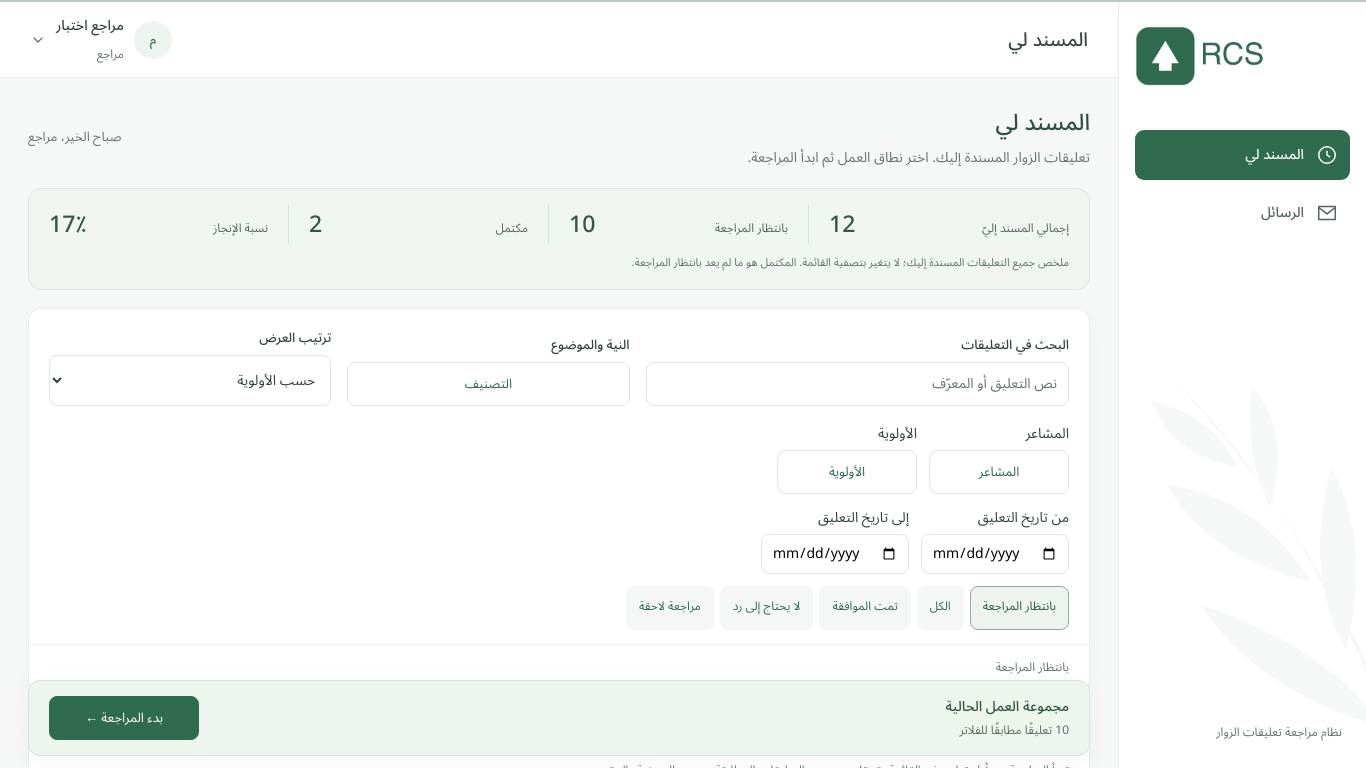
it: Reviewer Assigned work › combines real Intent/Topic/search and retains context on entry and return
This screenshot has width=1366, height=768.
Expected: the heading "قائمة المراجعة (10)" is shown, [944,727,1069,761]
Click the button "التصنيف" at (488, 384), box [347,362,630,406]
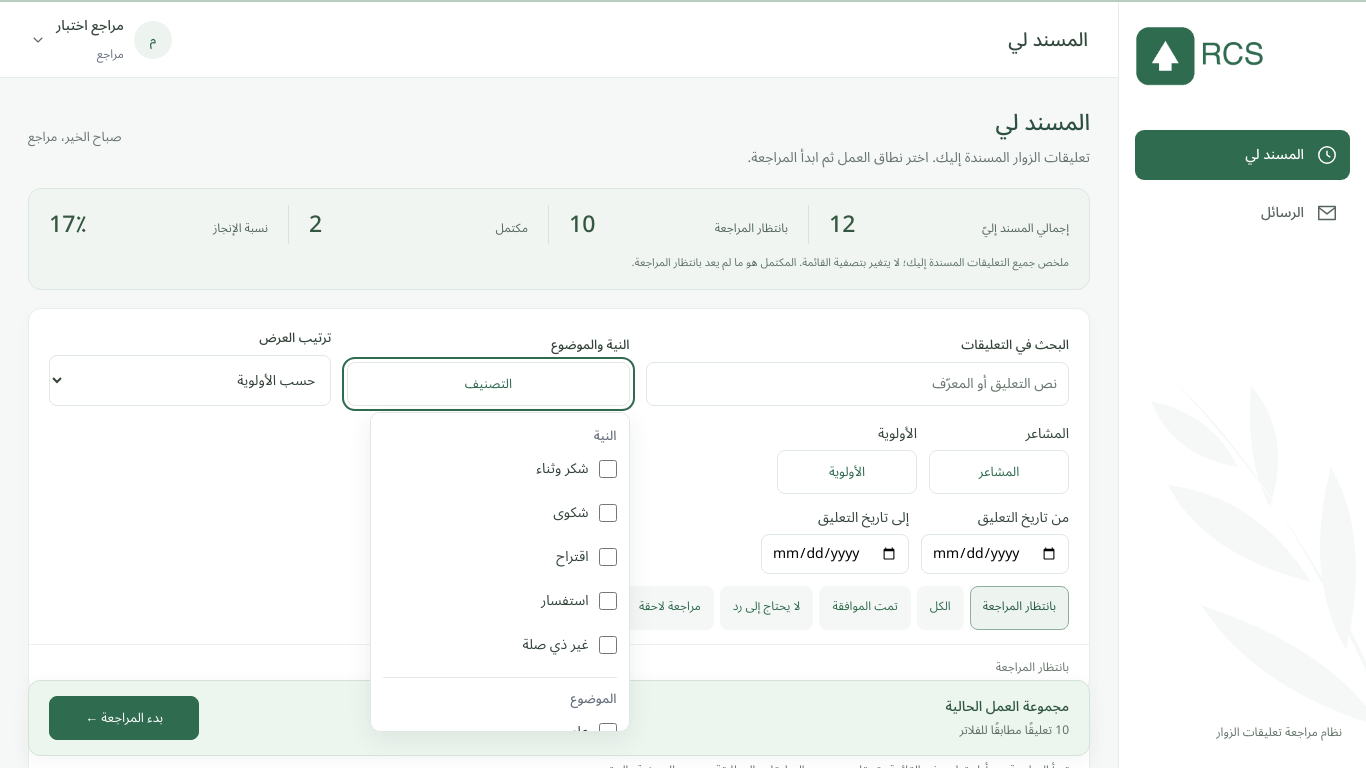
Click the checkbox labelled "اقتراح" at (608, 557), box [599,548,617,566]
(page scrolled)
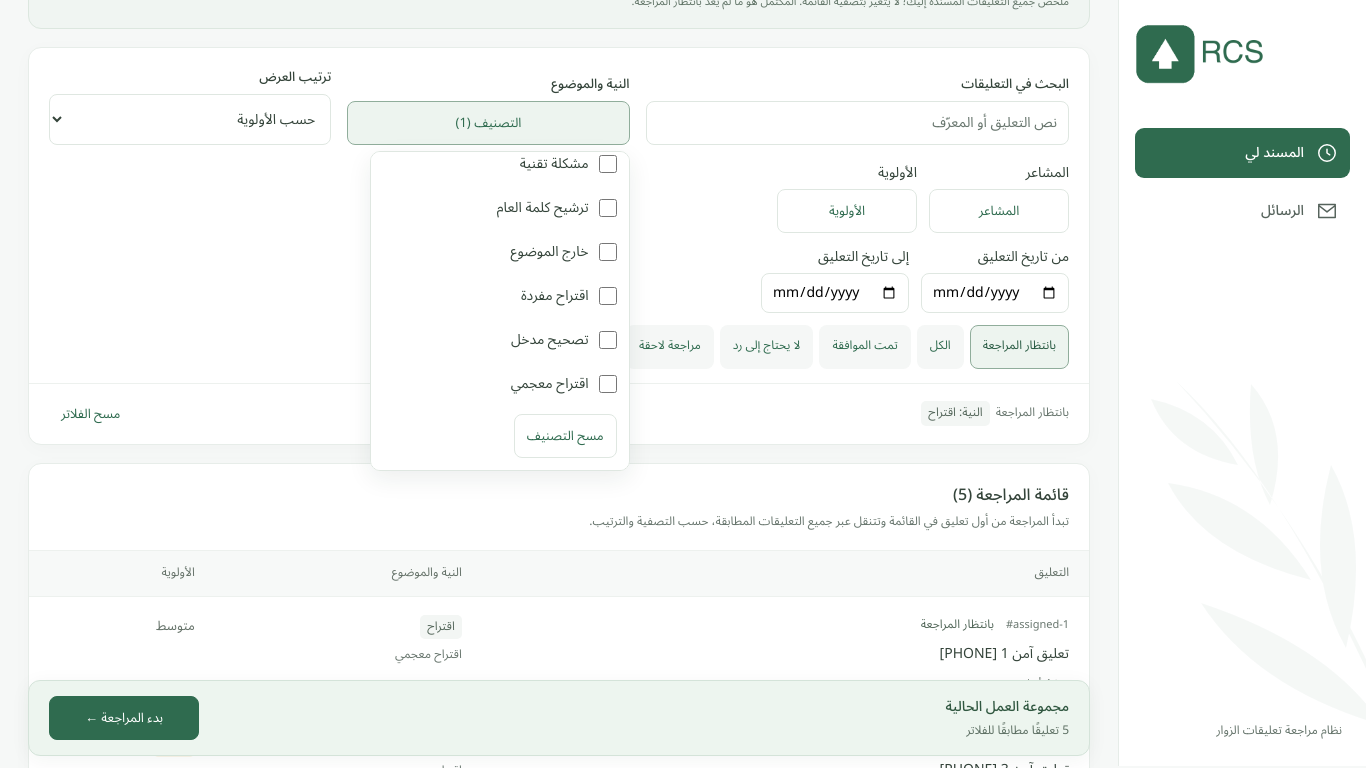
Click the checkbox labelled "اقتراح معجمي" at (608, 384), box [599,375,617,393]
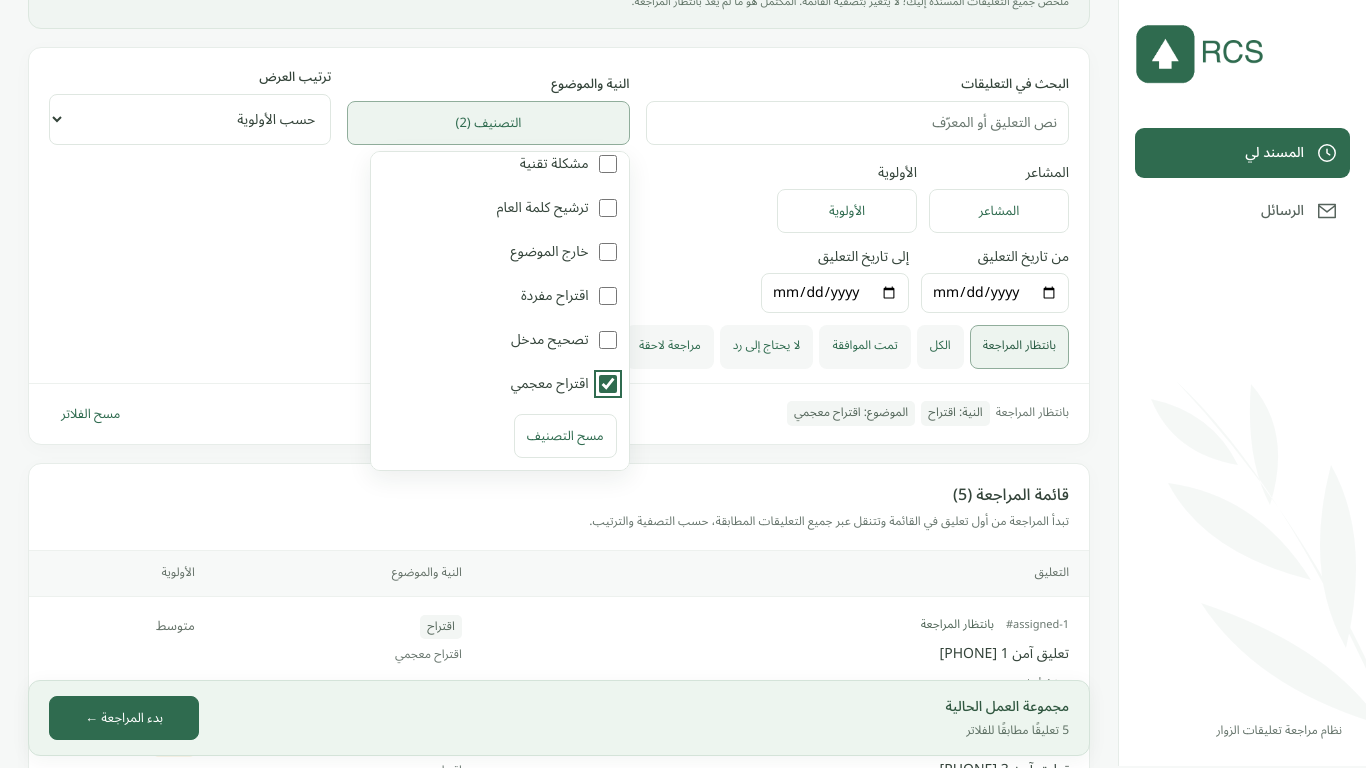
Type "assigned-3" into the search field labelled "بحث" at (857, 123), box [646,101,1069,145]
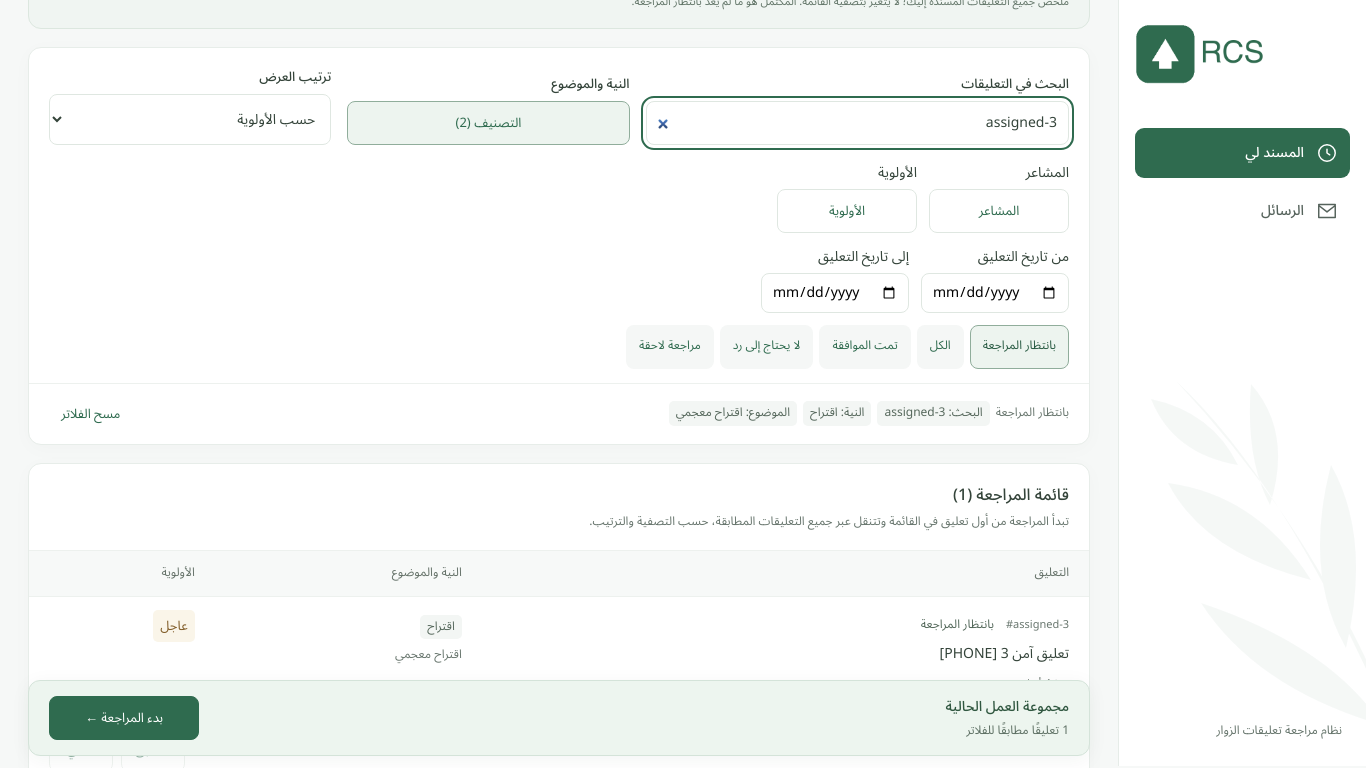
Expected: the heading "قائمة المراجعة (1)" is shown, [953,478,1069,512]
Click the button "بدء المراجعة ←" at (124, 718), box [49,696,199,740]
(page scrolled)
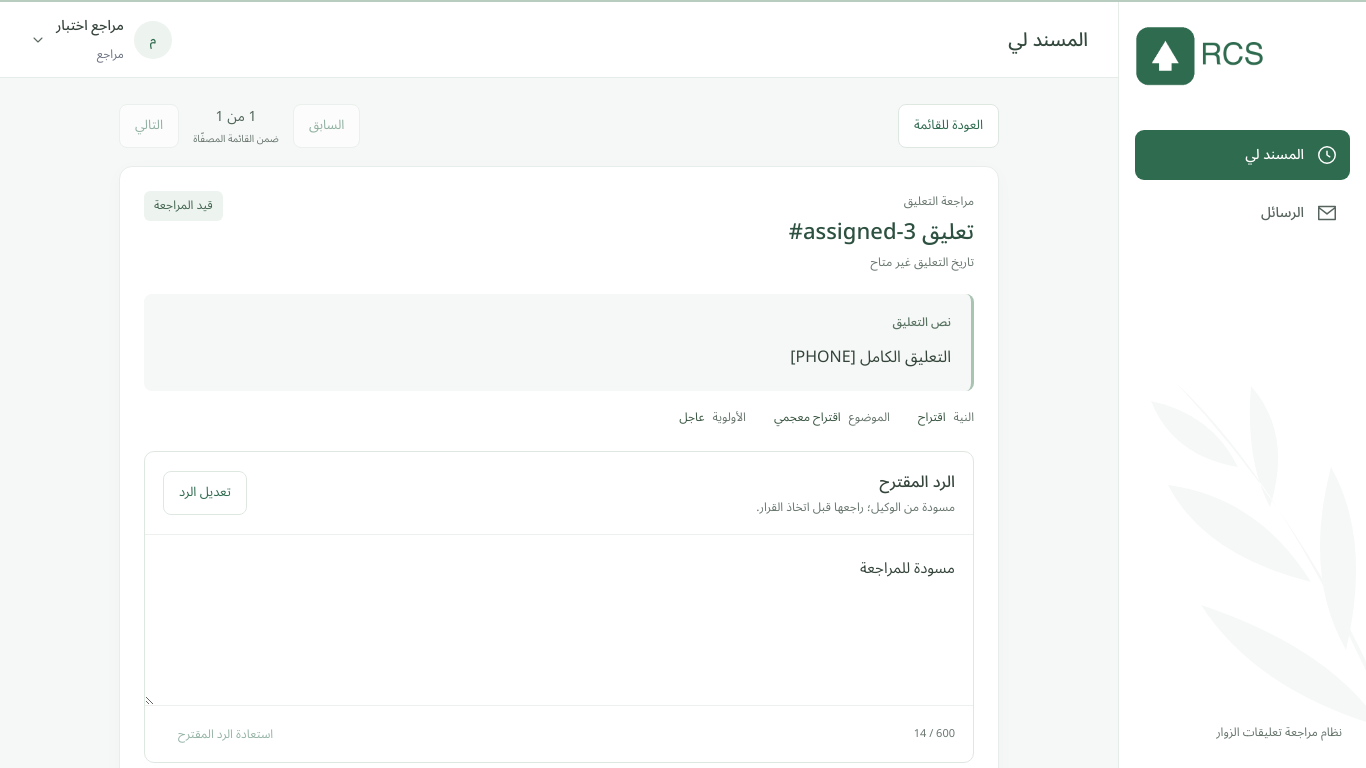
Expected: the text box named "الرد المقترح" is shown, [145,535,973,705]
Click the button "العودة للقائمة" at (948, 126), box [898,104,999,148]
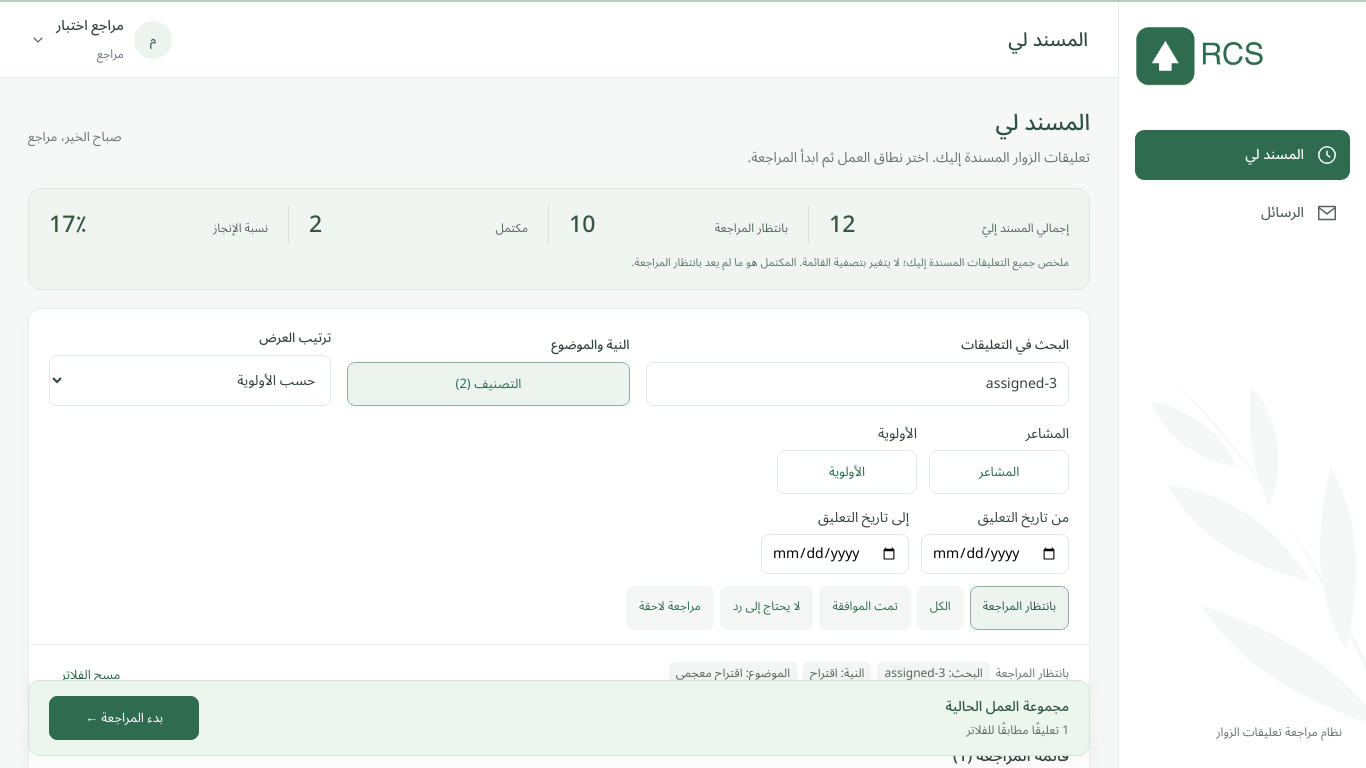
Expected: the search field labelled "بحث" holds "assigned-3", [646,362,1069,406]
Expected: the text "النية: اقتراح" is shown, [803,662,871,687]
Expected: the text "الموضوع: اقتراح معجمي" is shown, [669,662,797,687]
